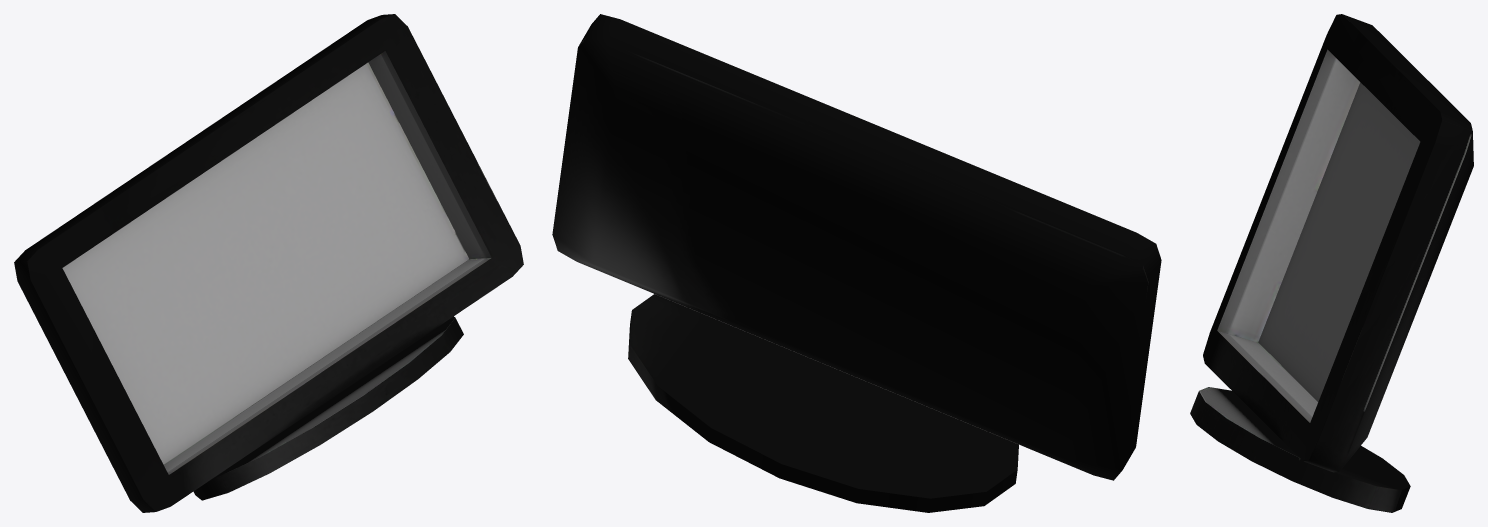
3 views of the same model, side by side, from view 1: azimuth 30°, elevation 25°; view 2: azimuth 150°, elevation 25°; view 3: azimuth 270°, elevation 25° (orthographic). The views are drawn at different scales.
Visible parts, largest first — view 1: tv 6; view 2: tv 6; view 3: tv 6.
Part boxes in pixels (x1,y1,x2,y2): tv 6: (14, 14, 523, 512); tv 6: (552, 14, 1161, 512); tv 6: (1190, 14, 1473, 512).
Size of the model in its own units: 244 by 96.84 by 181.
1 material, 1 textured.
